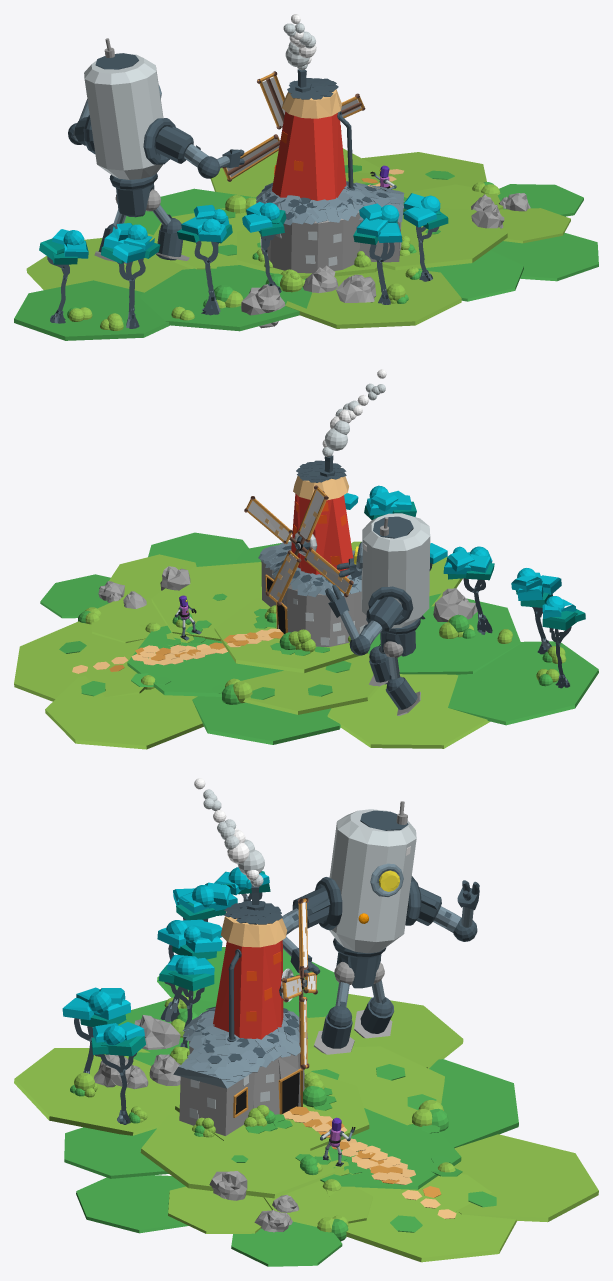
The model's file is Good Neighbor.glb.
The picture shows the model from 3 angles, top to bottom: view 1: azimuth 30°, elevation 25°; view 2: azimuth 150°, elevation 25°; view 3: azimuth 270°, elevation 25°; orthographic projection. The views are drawn at different scales.
Visible parts, largest first — view 1: Node; view 2: Node; view 3: Node.
Part boxes in pixels (x1=…): Node: x1=14, y1=14, x2=598, y2=340; Node: x1=14, y1=369, x2=598, y2=749; Node: x1=14, y1=778, x2=598, y2=1266.
Bounding box in the file's own units: 7.02 × 3.63 × 5.71.
